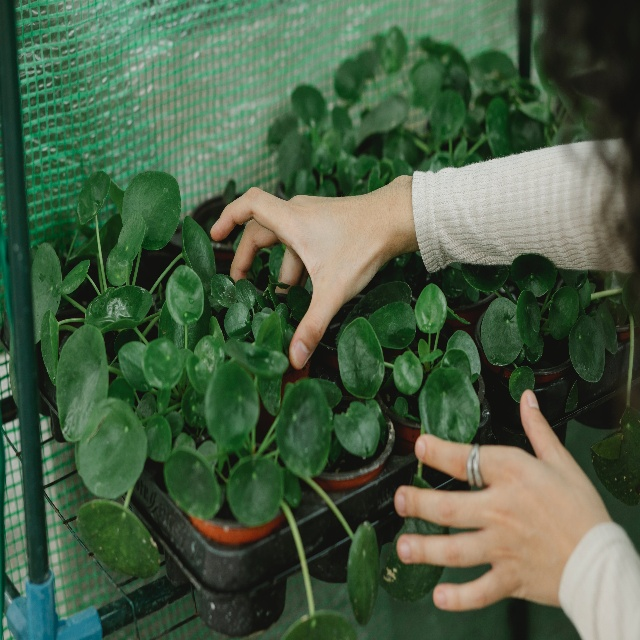Sin_guantes: (393, 388, 611, 611), (209, 185, 388, 371)
